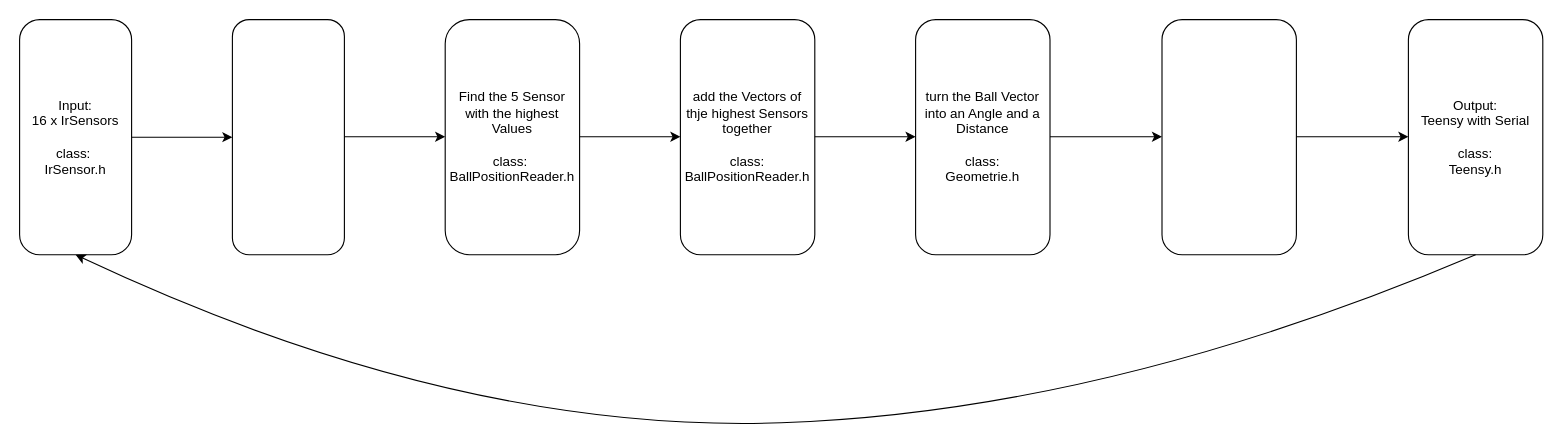
This 1562x444 diagram has some shape labels left out. Each missing label, with the centre of its shape:
"Get all the Values from the Sensors class: IrSensorReader.h" belongs at [287,136].
"turn the Distance Value into an accurate cm Value class: Geometrie.h" belongs at [1228,136].
